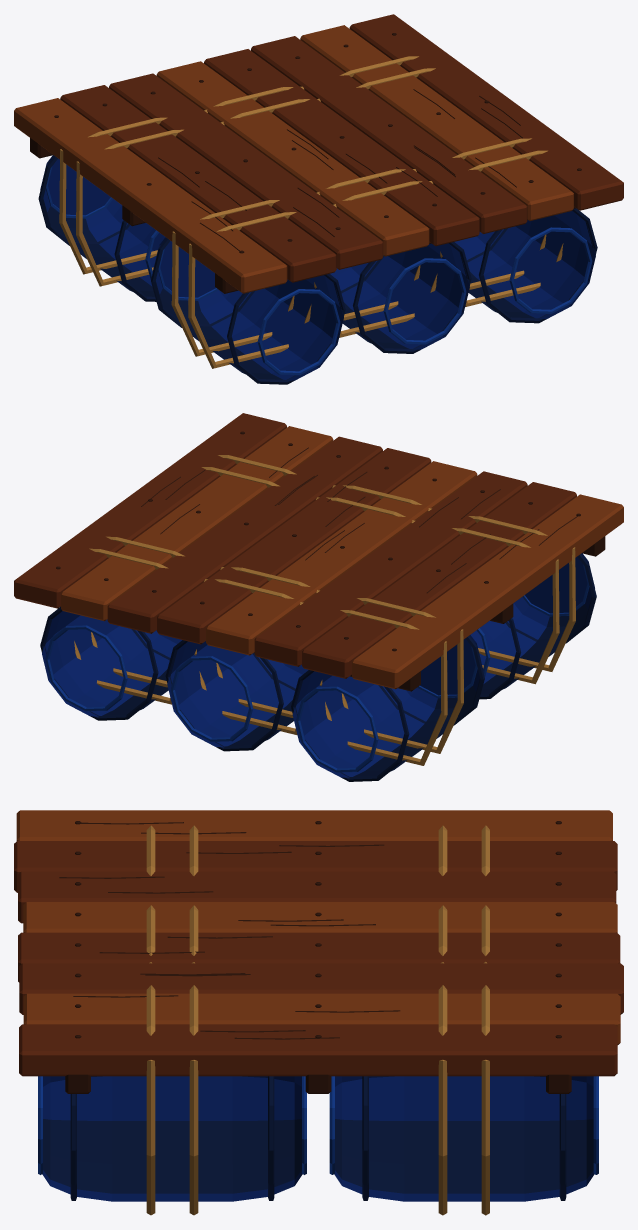
File: Barrel_Raft.obj
The picture shows the model from 3 angles, top to bottom: view 1: azimuth 30°, elevation 25°; view 2: azimuth 150°, elevation 25°; view 3: azimuth 270°, elevation 25°; orthographic projection. The views are drawn at different scales.
Visible parts, largest first — view 1: Deck_plank_07; view 2: Deck_plank_07; view 3: Deck_plank_07.
Boxes of the visible parts, x1,y1,x2,y2 form: Deck_plank_07: (14, 14, 623, 384); Deck_plank_07: (14, 413, 623, 781); Deck_plank_07: (14, 810, 623, 1215).
Size of the model in its own units: 2.71 by 0.9589 by 2.84.
